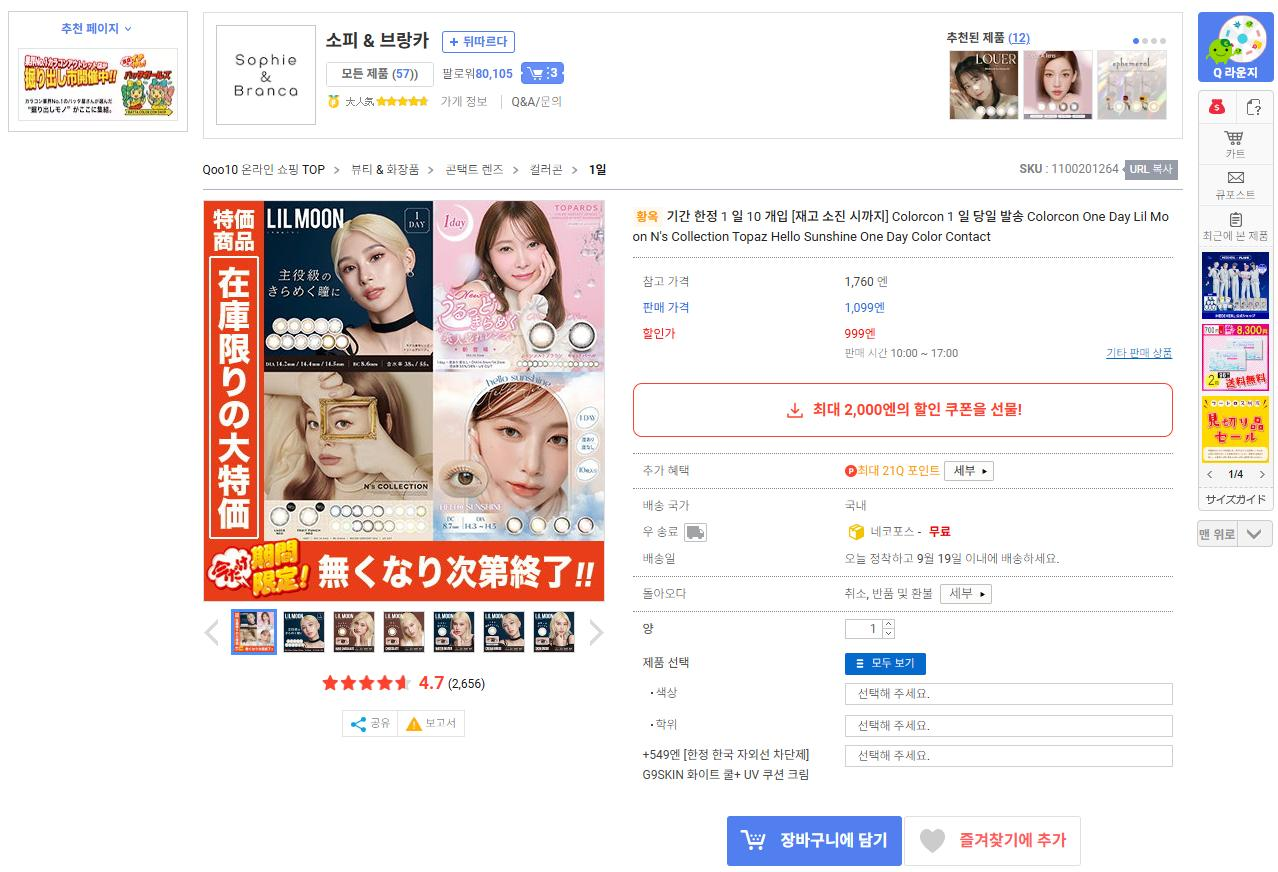button: (905, 814, 1080, 872), (730, 812, 899, 868), (844, 680, 1172, 705), (848, 713, 1170, 738), (846, 746, 1180, 767), (1197, 517, 1278, 562), (325, 59, 436, 89), (1203, 205, 1273, 250), (1201, 123, 1272, 165), (432, 27, 530, 56), (1102, 336, 1179, 368), (1201, 167, 1271, 201), (844, 649, 929, 677), (1121, 152, 1186, 185), (937, 574, 1001, 607), (400, 709, 468, 739), (941, 453, 1000, 487), (234, 609, 276, 655), (515, 55, 571, 88), (284, 609, 326, 653), (433, 610, 474, 654), (335, 611, 376, 653), (483, 611, 524, 653), (533, 612, 574, 654), (337, 707, 394, 737), (383, 612, 424, 652), (509, 89, 582, 110), (439, 93, 495, 116), (1199, 92, 1238, 123), (583, 613, 608, 653), (1238, 94, 1273, 122), (200, 615, 223, 653), (1204, 464, 1216, 485), (1258, 468, 1272, 485)
checkbox: (843, 614, 906, 642)
popup: (626, 374, 1181, 443), (3, 8, 189, 140), (1196, 7, 1278, 84)
